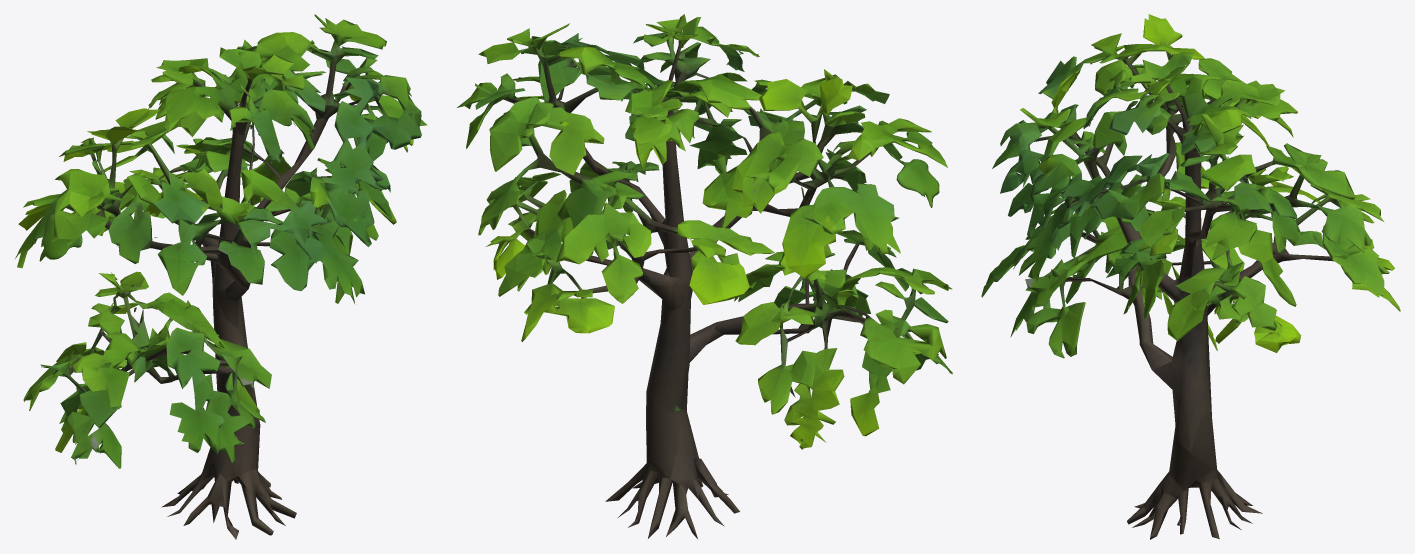
Rendered from VEG_ArbolTropical_04_LOD1.fbx.
The picture shows the model from 3 angles, left to right: view 1: azimuth 30°, elevation 25°; view 2: azimuth 150°, elevation 25°; view 3: azimuth 270°, elevation 25°; orthographic projection. The views are drawn at different scales.
Visible parts, largest first — view 1: VEG_ArbolTropical_04_Mesh000; view 2: VEG_ArbolTropical_04_Mesh000; view 3: VEG_ArbolTropical_04_Mesh000.
Boxes of the visible parts, bbox=[...] form: VEG_ArbolTropical_04_Mesh000: bbox=[15, 14, 427, 539]; VEG_ArbolTropical_04_Mesh000: bbox=[457, 14, 952, 538]; VEG_ArbolTropical_04_Mesh000: bbox=[981, 14, 1400, 539].
Size of the model in its own units: 15.16 by 16 by 13.13.
